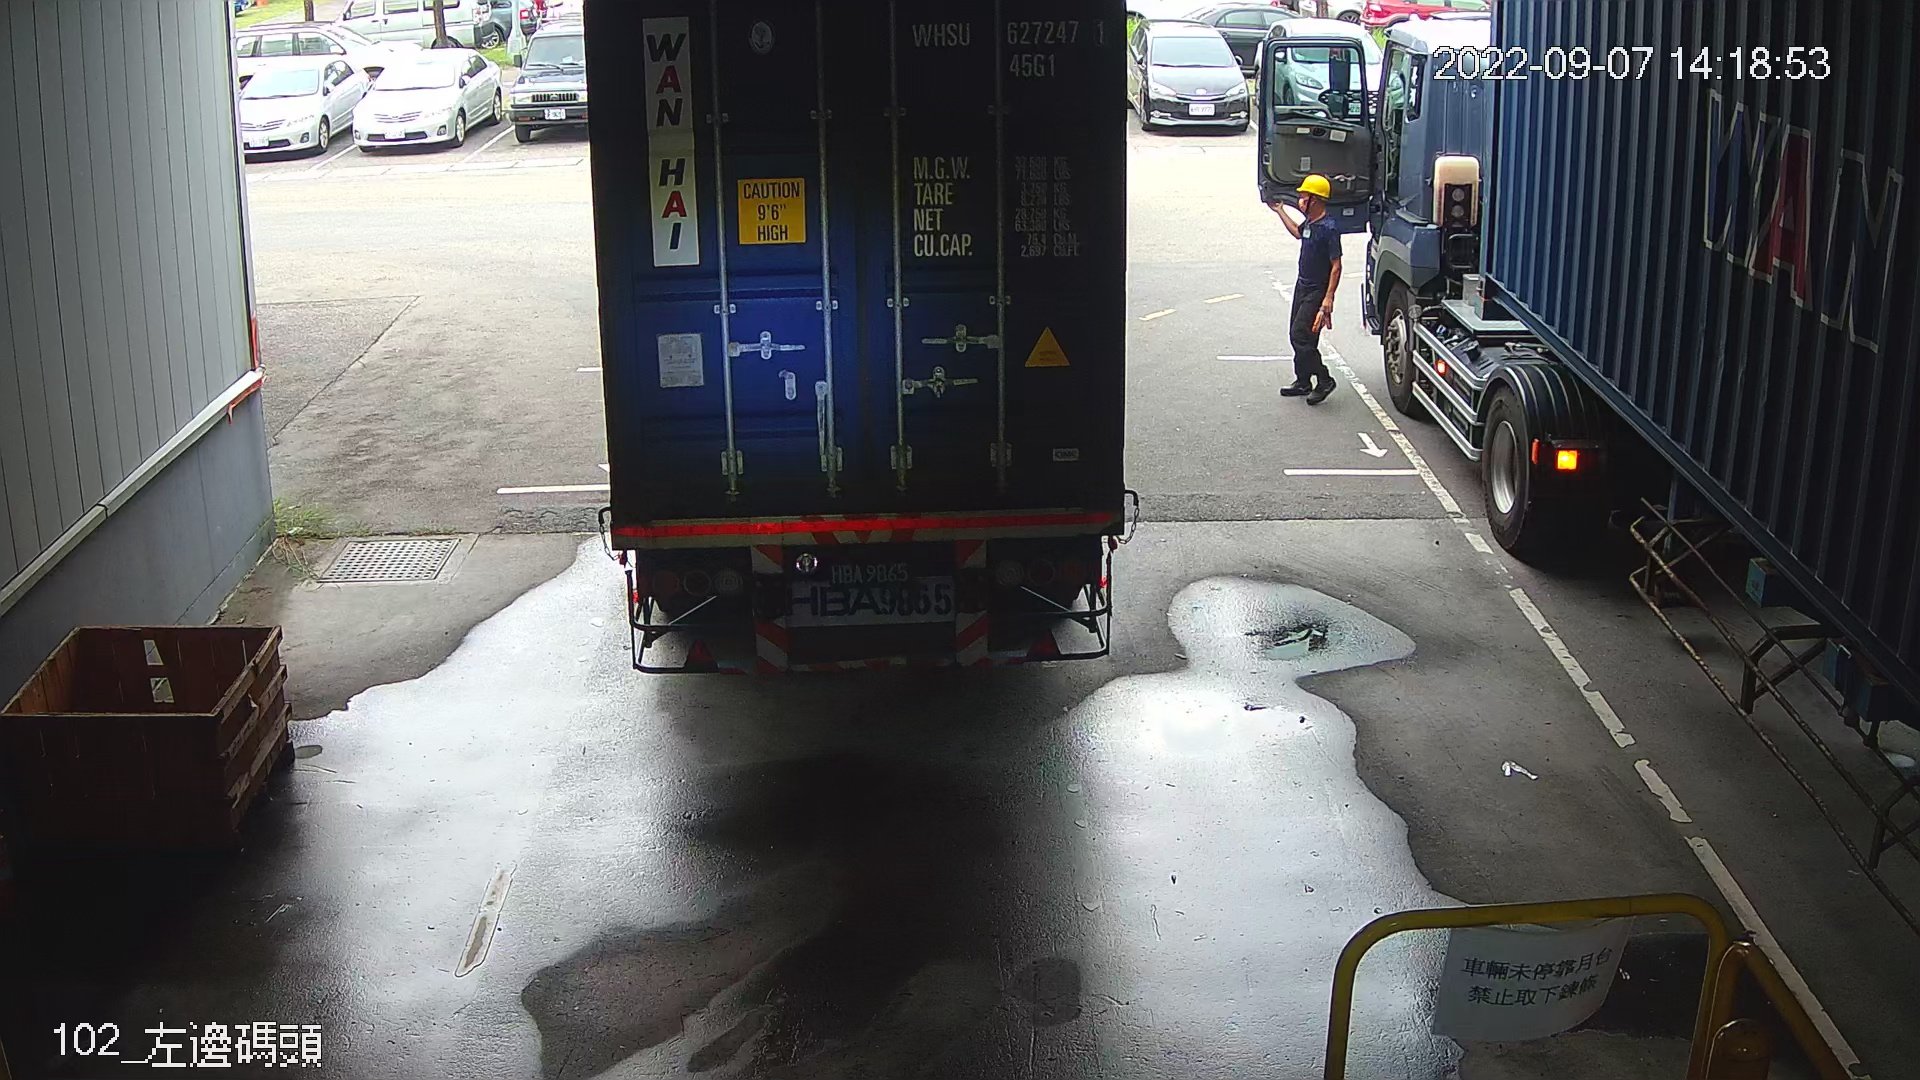container: (905, 11, 1116, 83)
